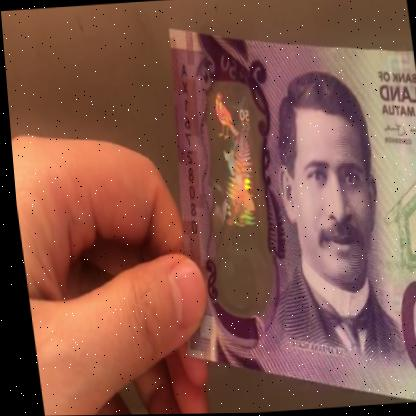50F: (198, 84, 273, 296)
